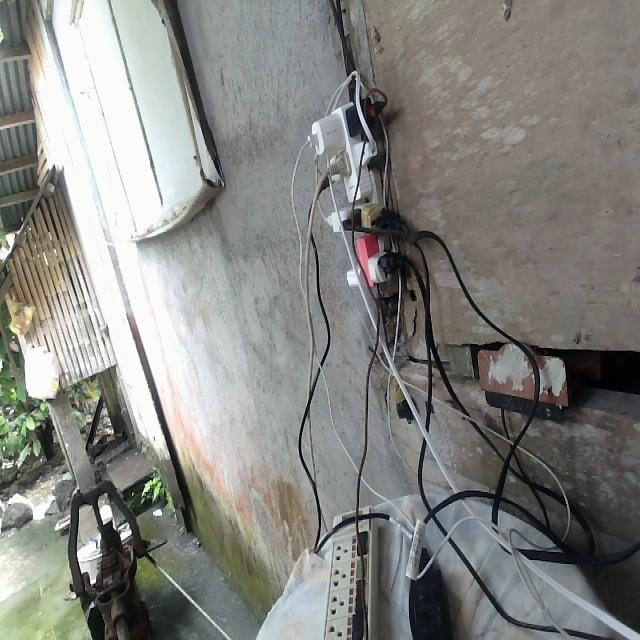-: (302, 87, 406, 289)
